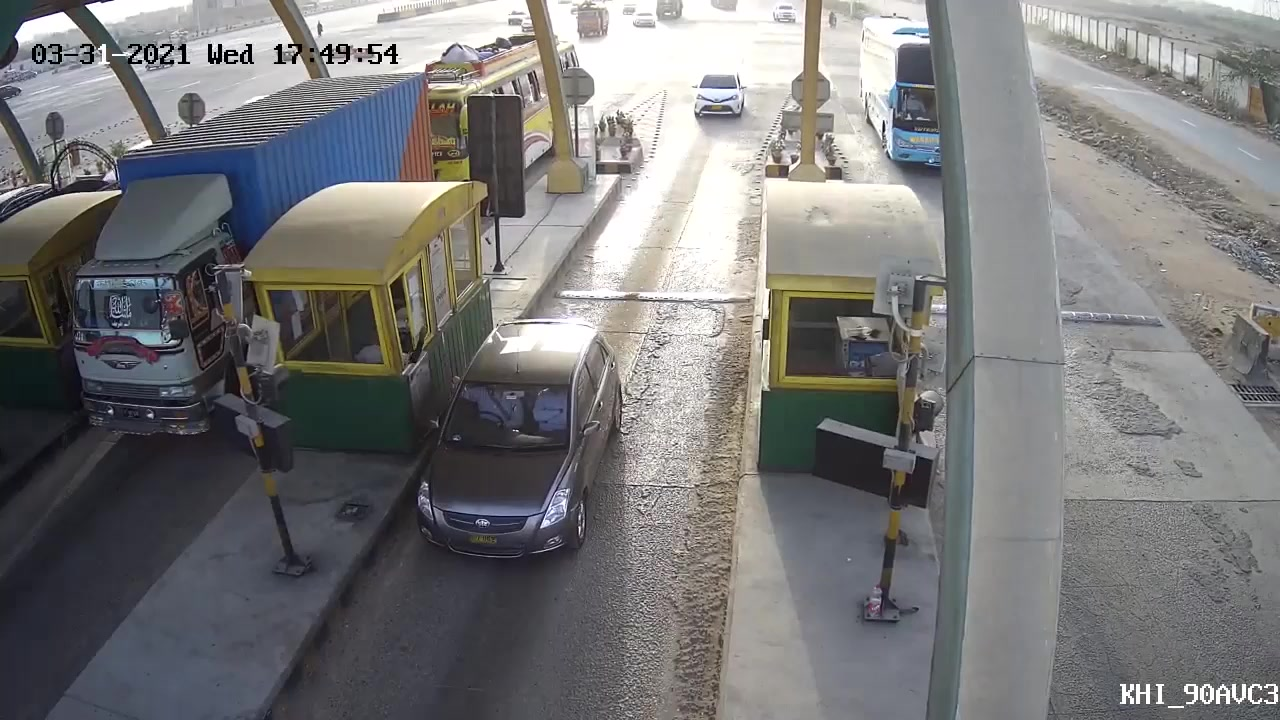F1: (391, 321, 631, 577)
